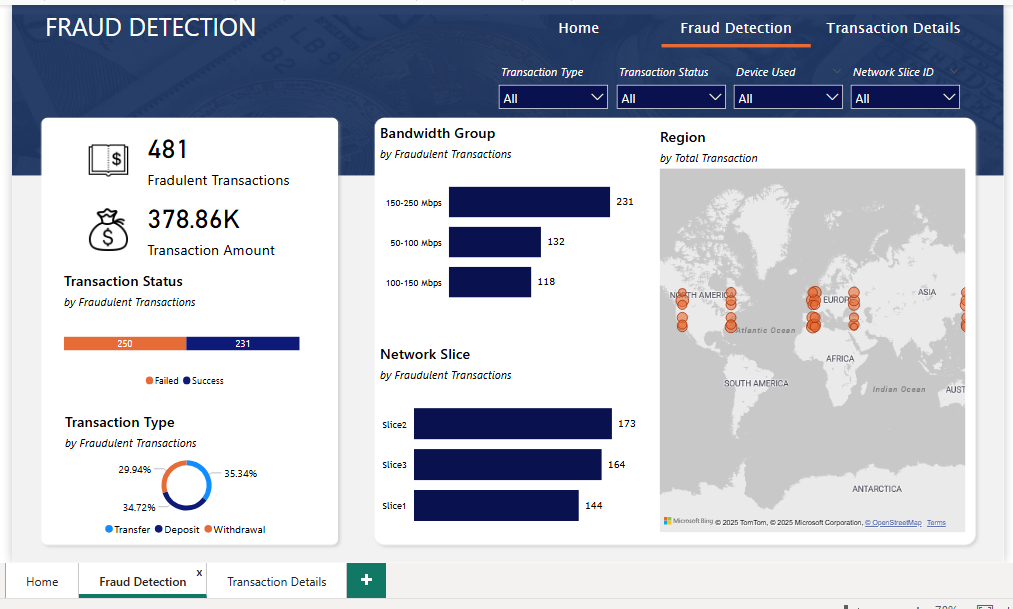

Layout of this report page (visuals, bound fields, positions):
{"tool":"powerbi","page":{"name":"Fraud Detection","canvas":[1280,720],"ordinal":1},"visuals":[{"type":"cardVisual","fields":{"Data":["bank transaction_data.Total transaction"]},"box":[77.1,145.7,298.6,110],"z":0},{"type":"cardVisual","fields":{"Data":["bank transaction_data.Total Transaction Amount"]},"box":[77.1,240,298.6,101.4],"z":1000},{"type":"barChart","title":"Transaction Status","fields":{"Y":["bank transaction_data.Total transaction"],"Series":["bank transaction_data.Transaction Status"]},"box":[61.4,341.4,325.7,161.4],"z":2000},{"type":"donutChart","title":"Transaction Type","fields":{"Y":["bank transaction_data.Total transaction"],"Category":["bank transaction_data.Transaction Type"]},"box":[62.9,524.3,324.3,171.4],"z":3000},{"type":"map","title":"Region","fields":{"Size":["bank transaction_data.Total transaction"],"Y":["bank transaction_data.Latitude Value"],"X":["bank transaction_data.Longitude Value"]},"box":[831.4,155.7,404.3,528.6],"z":4000},{"type":"slicer","fields":{"Values":["bank transaction_data.Network Slice ID"]},"box":[1072.9,71.4,161.4,70],"z":5000},{"type":"slicer","fields":{"Values":["bank transaction_data.Device Used"]},"box":[921.4,71.4,161.4,70],"z":6000},{"type":"slicer","fields":{"Values":["bank transaction_data.Transaction Status"]},"box":[770,71.4,161.4,70],"z":7000},{"type":"slicer","fields":{"Values":["bank transaction_data.Transaction Type"]},"box":[618.6,71.4,161.4,70],"z":8000},{"type":"textbox","box":[37.5,0,436.1,55.6],"z":9000},{"type":"barChart","title":"Bandwidth Group","fields":{"Y":["bank transaction_data.Total transaction"],"Category":["bank transaction_data.Bandwith Group"]},"box":[469.4,151.4,341.7,254.2],"z":10000},{"type":"barChart","title":"Network Slice","fields":{"Y":["bank transaction_data.Total transaction"],"Category":["bank transaction_data.Network Slice ID"]},"box":[469.4,436.1,341.7,258.3],"z":11000},{"type":"pageNavigator","box":[634.3,5.7,600,50],"z":12000}]}

Visuals, with their boxes on the page's 1280x720 design canvas (x1, y1, x2, y2). These are canvas units, not pixel positions in the 1013x609 screenshot, which may show the page scaled, cropped or inside an application window:
cardVisual - bank transaction_data.Total transaction: {"x1": 77, "y1": 146, "x2": 376, "y2": 256}
cardVisual - bank transaction_data.Total Transaction Amount: {"x1": 77, "y1": 240, "x2": 376, "y2": 341}
"Transaction Status" barChart: {"x1": 61, "y1": 341, "x2": 387, "y2": 503}
"Transaction Type" donutChart: {"x1": 63, "y1": 524, "x2": 387, "y2": 696}
"Region" map: {"x1": 831, "y1": 156, "x2": 1236, "y2": 684}
slicer - bank transaction_data.Network Slice ID: {"x1": 1073, "y1": 71, "x2": 1234, "y2": 141}
slicer - bank transaction_data.Device Used: {"x1": 921, "y1": 71, "x2": 1083, "y2": 141}
slicer - bank transaction_data.Transaction Status: {"x1": 770, "y1": 71, "x2": 931, "y2": 141}
slicer - bank transaction_data.Transaction Type: {"x1": 619, "y1": 71, "x2": 780, "y2": 141}
textbox: {"x1": 38, "y1": 0, "x2": 474, "y2": 56}
"Bandwidth Group" barChart: {"x1": 469, "y1": 151, "x2": 811, "y2": 406}
"Network Slice" barChart: {"x1": 469, "y1": 436, "x2": 811, "y2": 694}
pageNavigator: {"x1": 634, "y1": 6, "x2": 1234, "y2": 56}
